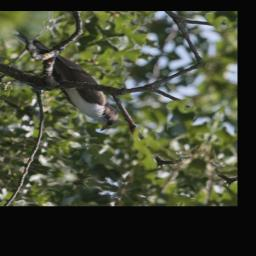Cuckoo: (0, 25, 144, 135)
